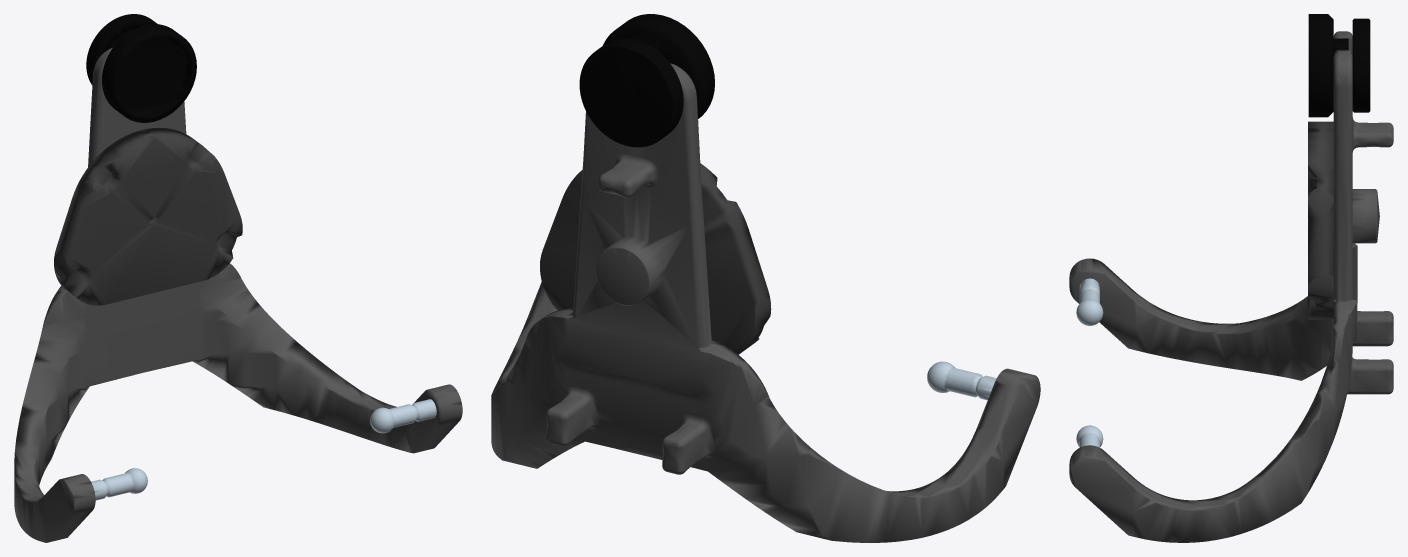
The model's file is lowerparts_1.obj.
3 views of the same model, side by side, from view 1: azimuth 30°, elevation 25°; view 2: azimuth 150°, elevation 25°; view 3: azimuth 270°, elevation 25° (orthographic). The views are drawn at different scales.
Bounding box in the file's own units: 172 × 174 × 119.
